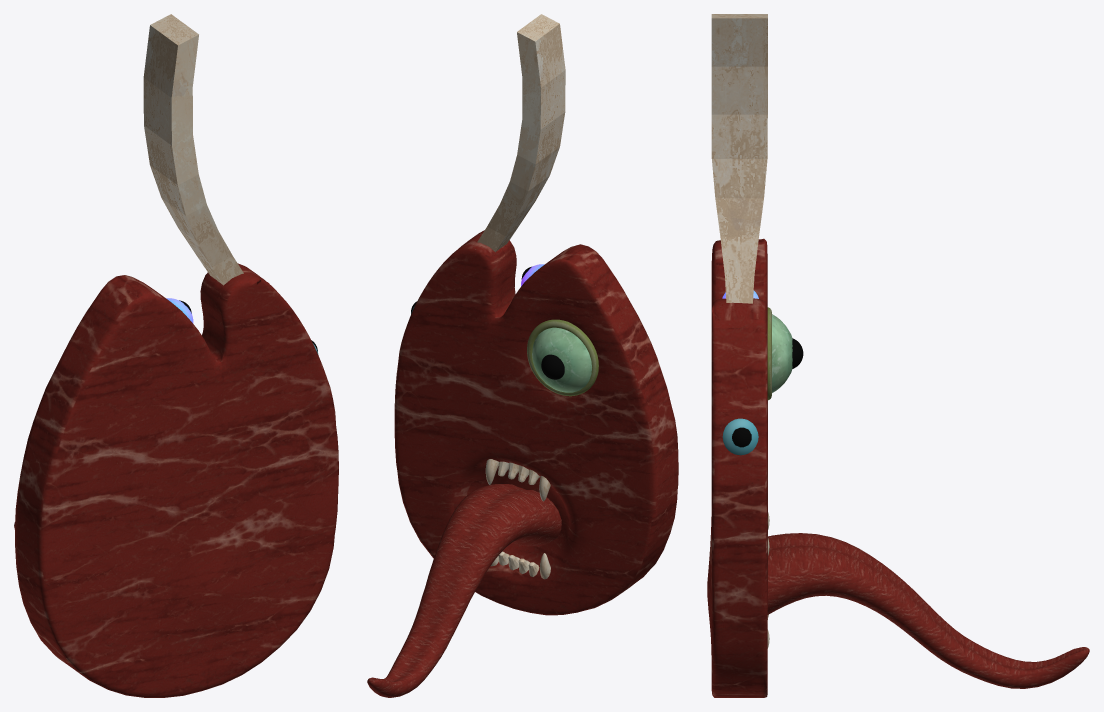
Rendered from Raw Steak.fbx.
The picture shows the model from 3 angles, left to right: view 1: azimuth 30°, elevation 25°; view 2: azimuth 150°, elevation 25°; view 3: azimuth 270°, elevation 25°; orthographic projection. The views are drawn at different scales.
Visible parts, largest first — view 1: meat and toungue, bone; view 2: meat and toungue, bone, eyes, teeth; view 3: meat and toungue, bone, eyes.
Part boxes in pixels (bbox=[...]): meat and toungue: bbox=[14, 263, 338, 697]; bone: bbox=[143, 14, 243, 285]; meat and toungue: bbox=[367, 230, 678, 697]; bone: bbox=[477, 14, 565, 251]; eyes: bbox=[411, 264, 598, 396]; teeth: bbox=[485, 459, 550, 579]; meat and toungue: bbox=[707, 238, 1089, 697]; bone: bbox=[711, 14, 767, 303]; eyes: bbox=[722, 290, 803, 455].
Bounding box in the file's own units: 171 × 361 × 188.
4 materials, 4 textured.
